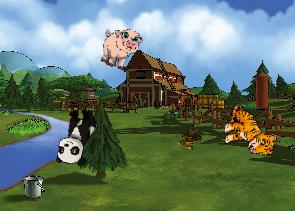panda: (53, 103, 99, 169)
pig: (95, 22, 145, 74)
tiger: (219, 103, 281, 158)
